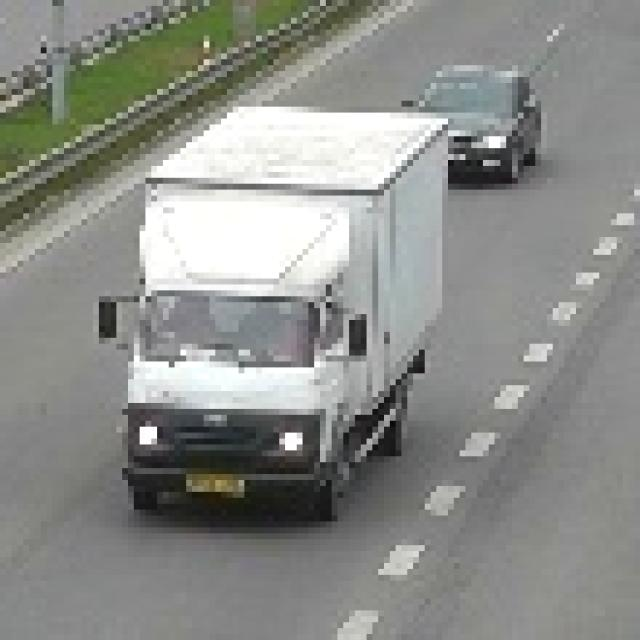truck: (88, 90, 449, 511)
